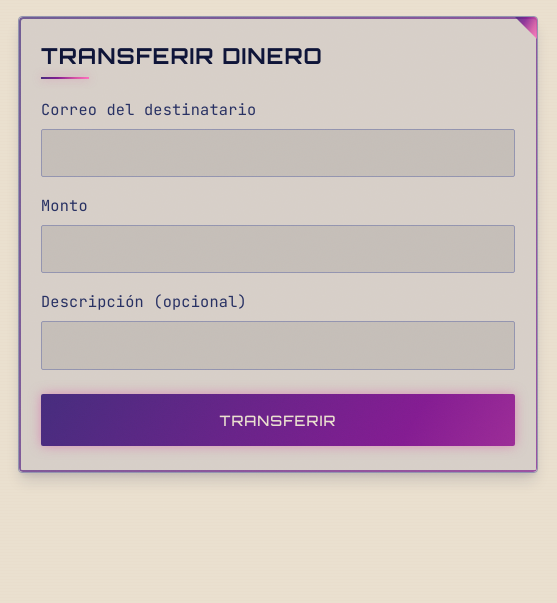
TransferForm › muestra el mensaje de error mapeado cuando el servicio rechaza la transferencia
This screenshot has width=557, height=603.
Type "destinatario@correo.cl" into the field labelled "Correo del destinatario".
click(278, 153); type("destinatario@correo.cl")  # box [41,129,515,177]
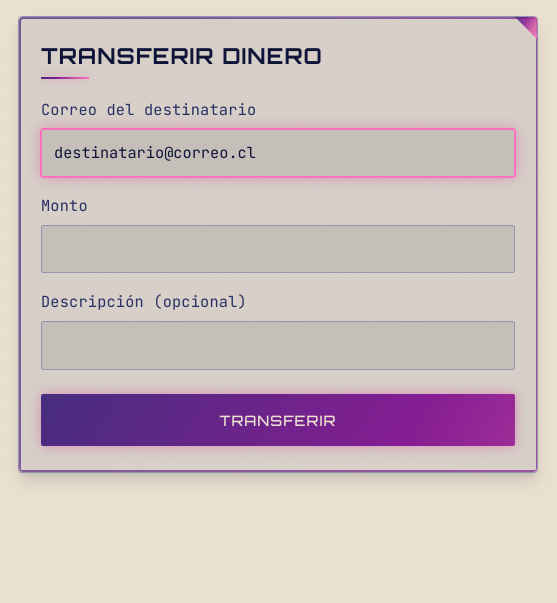
Type "5000" into the number field labelled "Monto".
click(278, 249); type("5000")  # box [41,225,515,273]
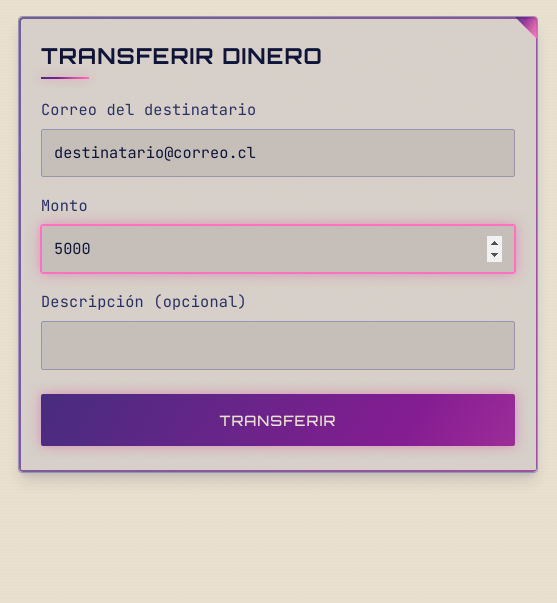
Click the button "Transferir".
click(278, 420)  # box [41,394,515,446]
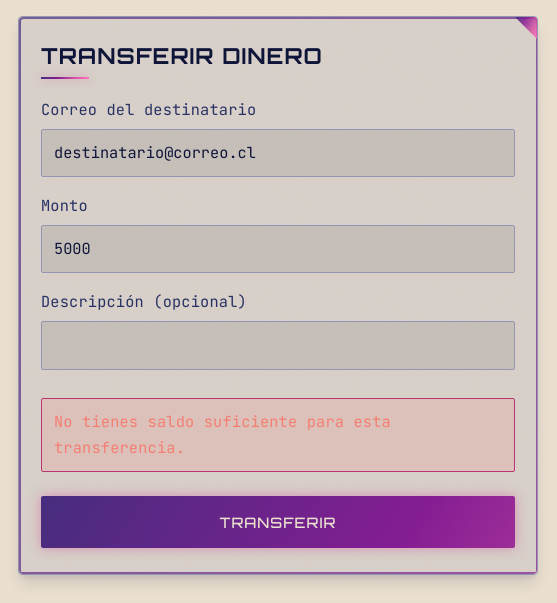
Now the text "No tienes saldo suficiente para esta transferencia." is shown, box [41,398,515,472]
